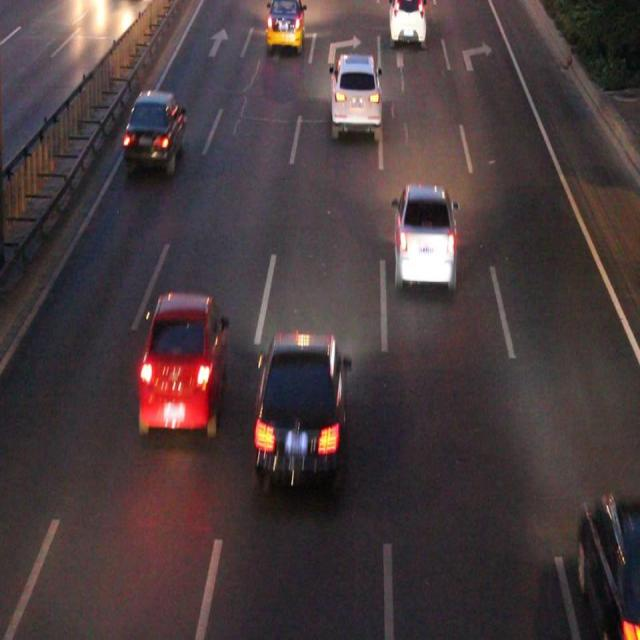car: (258, 338, 344, 482), (141, 297, 224, 427), (580, 499, 640, 640), (394, 187, 454, 286), (330, 54, 380, 136), (125, 95, 186, 162), (266, 2, 303, 48), (388, 1, 425, 43)
